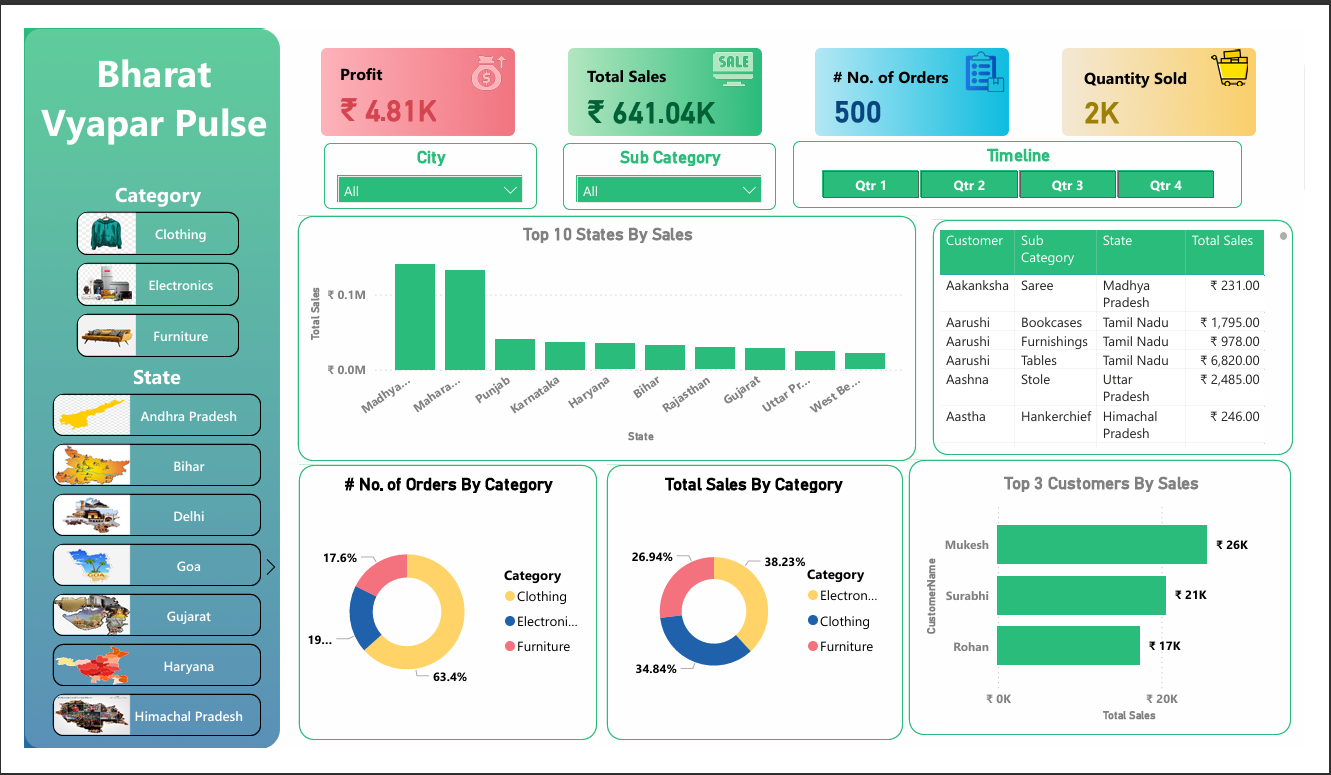

This screenshot's page, from the dashboard's own definition file:
{"tool":"powerbi","page":{"name":"Page 1","canvas":[1280,720],"ordinal":0},"visuals":[{"type":"shape","box":[0,0,262.5,719],"z":0},{"type":"advancedSlicerVisual","fields":{"Values":["List of Orders.State"]},"box":[3.2,333.5,257.7,382.3],"z":1000},{"type":"advancedSlicerVisual","fields":{"Values":["List of Orders.Category"]},"box":[27,151.1,211.6,181.9],"z":2000},{"type":"cardVisual","title":"Profit","fields":{"Data":["Sum(List of Orders.Profit)"]},"box":[303.3,17,178.1,79.5],"z":3000},{"type":"cardVisual","title":"Profit","fields":{"Data":["List of Orders.Total Sales"]},"box":[549.8,18.6,178.1,79.5],"z":4000},{"type":"cardVisual","title":"Profit","fields":{"Data":["CountNonNull(List of Orders.Order ID)"]},"box":[795.8,20.1,178.1,79.5],"z":5000},{"type":"cardVisual","title":"Profit","fields":{"Data":["Sum(List of Orders.Quantity)"]},"box":[1047.2,20.7,178.1,79.5],"z":6000},{"type":"shape","box":[272,185.6,620.3,247.1],"z":7000},{"type":"columnChart","title":"Top 10 States By Sales","fields":{"Category":["List of Orders.State"],"Y":["List of Orders.Total Sales"]},"box":[279.9,195.1,606,223.2],"z":8000},{"type":"shape","box":[273.6,435.8,298,275.2],"z":9000},{"type":"donutChart","title":"# No. of Orders By Category","fields":{"Category":["List of Orders.Category"],"Y":["CountNonNull(List of Orders.Order ID)"]},"box":[279.9,445.4,287.9,256.6],"z":10000},{"type":"shape","box":[582.2,435.8,295.9,275.2],"z":11000},{"type":"donutChart","title":"Total Sales By Category","fields":{"Category":["List of Orders.Category"],"Y":["List of Orders.Total Sales"]},"box":[590.6,445.4,276.2,256.1],"z":12000},{"type":"shape","box":[908.2,190.9,359.5,235.4],"z":13000},{"type":"tableEx","fields":{"Values":["List of Orders.CustomerName","List of Orders.Sub_Category","List of Orders.State","List of Orders.Total Sales"]},"box":[914.6,202,348.9,216.3],"z":14000},{"type":"shape","box":[884.4,431.1,381.7,275.2],"z":15000},{"type":"slicer","title":"City","fields":{"Values":["List of Orders.City"]},"box":[299,113.9,213.1,66.3],"z":16000},{"type":"slicer","title":"Sub Category","fields":{"Values":["List of Orders.Sub_Category"]},"box":[537.6,113.9,213.1,66.8],"z":17000},{"type":"slicer","title":"Timeline","fields":{"Values":["List of Orders.Order Date.Variation.Date Hierarchy.Quarter"]},"box":[768.3,112.3,448.6,66.8],"z":18000},{"type":"textbox","box":[6.4,12.7,246,128.8],"z":19000},{"type":"barChart","title":"Top 3 Customers By Sales","fields":{"Category":["List of Orders.CustomerName"],"Y":["List of Orders.Total Sales"]},"box":[895.5,443.8,361.1,252.9],"z":20000},{"type":"image","box":[689.4,20.2,39.4,39.4],"z":21000},{"type":"image","box":[443.6,23.4,40.4,40.4],"z":22000},{"type":"image","box":[938.8,21.5,42.3,42.3],"z":23000},{"type":"image","box":[1186.9,20.5,37.5,37.5],"z":24000}]}

Visuals, with their boxes on the page's 1280x720 design canvas (x1, y1, x2, y2). These are canvas units, not pixel positions in the 1331x775 screenshot, which may show the page scaled, cropped or inside an application window:
shape: (0, 0, 262, 719)
advancedSlicerVisual - List of Orders.State: (3, 334, 261, 716)
advancedSlicerVisual - List of Orders.Category: (27, 151, 239, 333)
"Profit" cardVisual: (303, 17, 481, 96)
"Profit" cardVisual: (550, 19, 728, 98)
"Profit" cardVisual: (796, 20, 974, 100)
"Profit" cardVisual: (1047, 21, 1225, 100)
shape: (272, 186, 892, 433)
"Top 10 States By Sales" columnChart: (280, 195, 886, 418)
shape: (274, 436, 572, 711)
"# No. of Orders By Category" donutChart: (280, 445, 568, 702)
shape: (582, 436, 878, 711)
"Total Sales By Category" donutChart: (591, 445, 867, 702)
shape: (908, 191, 1268, 426)
tableEx - List of Orders.CustomerName x List of Orders.Sub_Category: (915, 202, 1264, 418)
shape: (884, 431, 1266, 706)
"City" slicer: (299, 114, 512, 180)
"Sub Category" slicer: (538, 114, 751, 181)
"Timeline" slicer: (768, 112, 1217, 179)
textbox: (6, 13, 252, 142)
"Top 3 Customers By Sales" barChart: (896, 444, 1257, 697)
image: (689, 20, 729, 60)
image: (444, 23, 484, 64)
image: (939, 22, 981, 64)
image: (1187, 20, 1224, 58)
